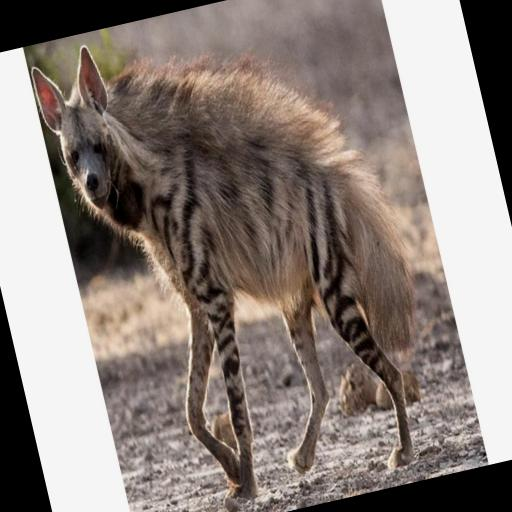hyenas: (17, 0, 482, 512)
